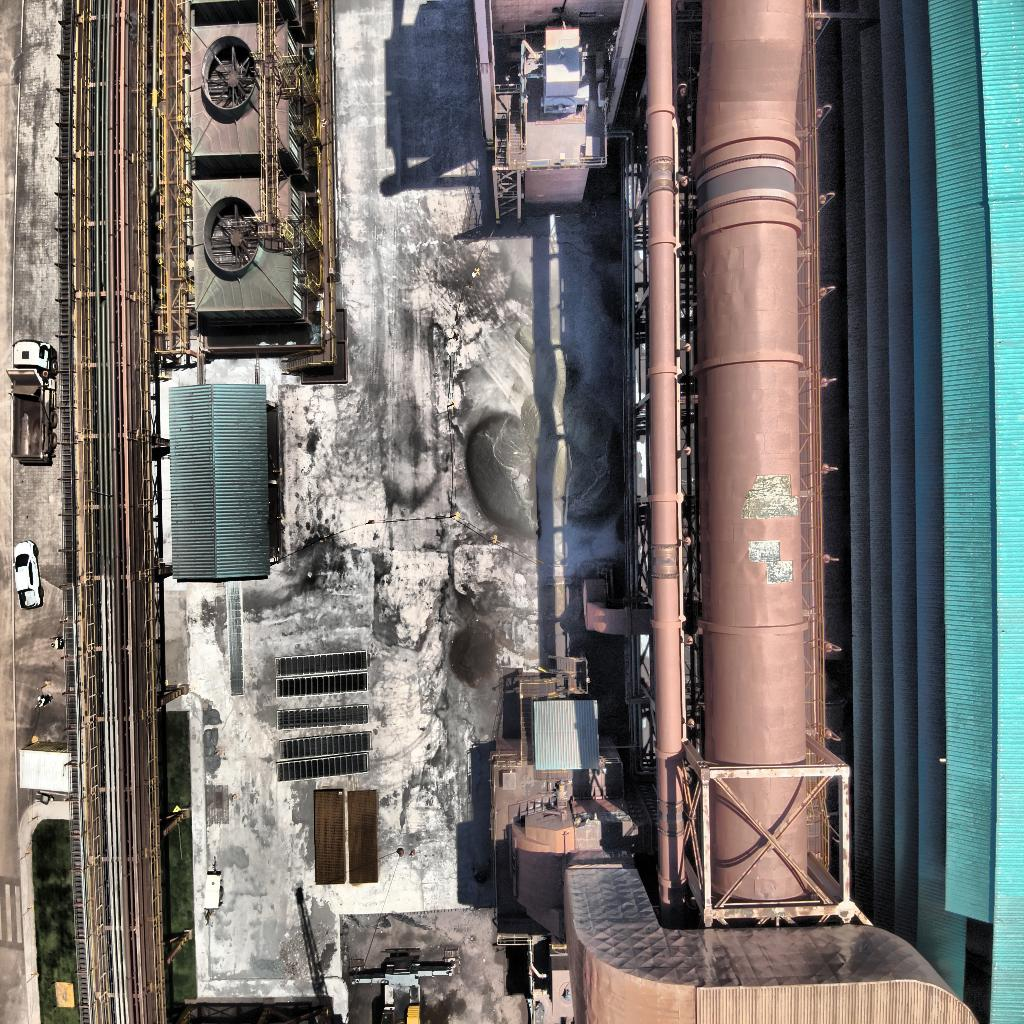Failures: (743, 472, 801, 524), (747, 539, 795, 586), (571, 810, 645, 840)
